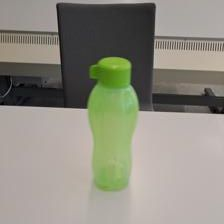bottle: (87, 55, 142, 194)
